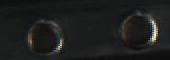joints: (114, 8, 159, 51), (22, 16, 66, 57)
